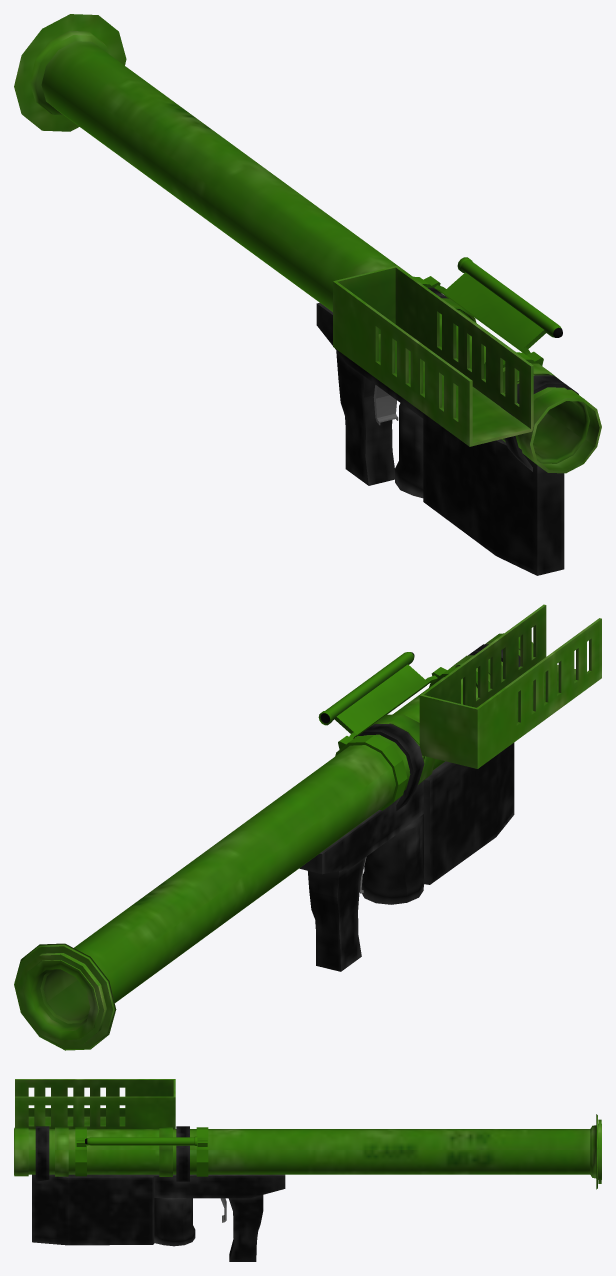
The model's file is mp_stinger.glb.
3 views of the same model, one above another, from view 1: azimuth 30°, elevation 25°; view 2: azimuth 150°, elevation 25°; view 3: azimuth 270°, elevation 25° (orthographic). The views are drawn at different scales.
Parts seen in each view (by area): view 1: body|lambert2, body|lambert3, body|lambert4; view 2: body|lambert2, body|lambert3, body|lambert4; view 3: body|lambert2, body|lambert3, body|lambert4.
Part boxes in pixels (bbox=[...]): body|lambert2: bbox=[14, 14, 601, 473]; body|lambert3: bbox=[316, 287, 578, 575]; body|lambert4: bbox=[412, 257, 561, 379]; body|lambert2: bbox=[14, 604, 601, 1050]; body|lambert3: bbox=[299, 644, 520, 971]; body|lambert4: bbox=[318, 652, 490, 810]; body|lambert2: bbox=[14, 1079, 601, 1189]; body|lambert3: bbox=[32, 1126, 285, 1261]; body|lambert4: bbox=[75, 1127, 208, 1176].
Bounding box in the file's own units: 0.1286 × 0.2025 × 0.712.
4 materials, 4 textured.
